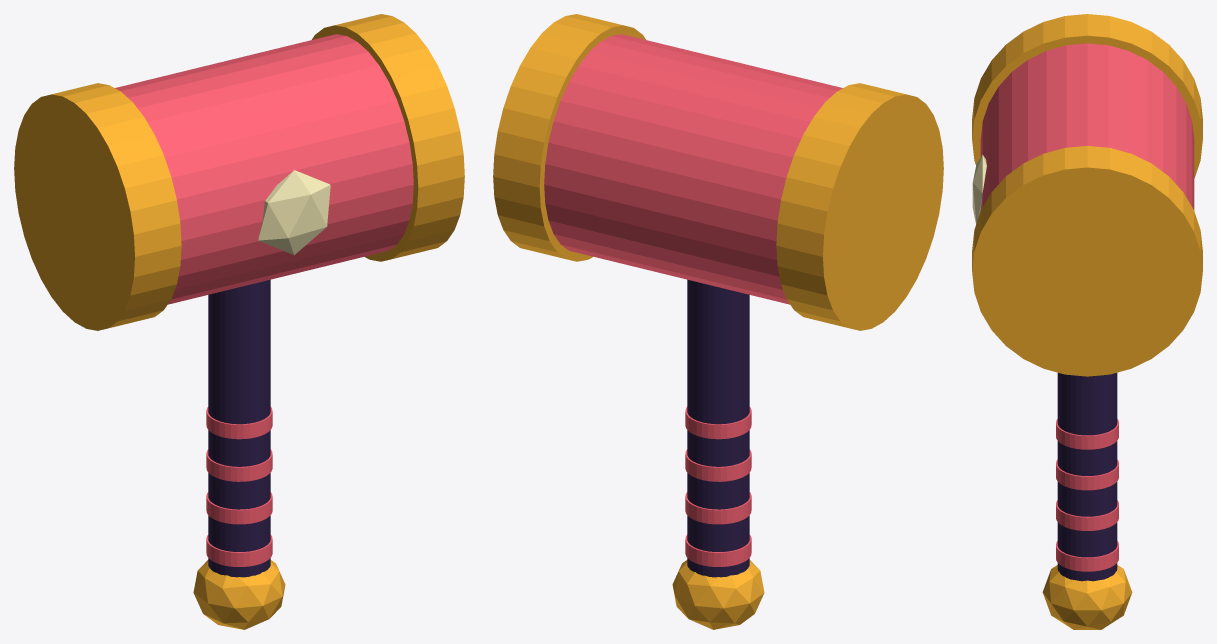
File: BonkHammer.fbx
3 renders of one model, left to right at view 1: azimuth 30°, elevation 25°; view 2: azimuth 150°, elevation 25°; view 3: azimuth 270°, elevation 25°, orthographic. The views are drawn at different scales.
Parts seen in each view (by area): view 1: BonkHammer; view 2: BonkHammer; view 3: BonkHammer.
Boxes of the visible parts, x1=… form: BonkHammer: x1=14, y1=14, x2=464, y2=629; BonkHammer: x1=493, y1=14, x2=943, y2=629; BonkHammer: x1=972, y1=14, x2=1202, y2=629.
Size of the model in its own units: 170 by 277 by 108.
1 material, 1 textured.
